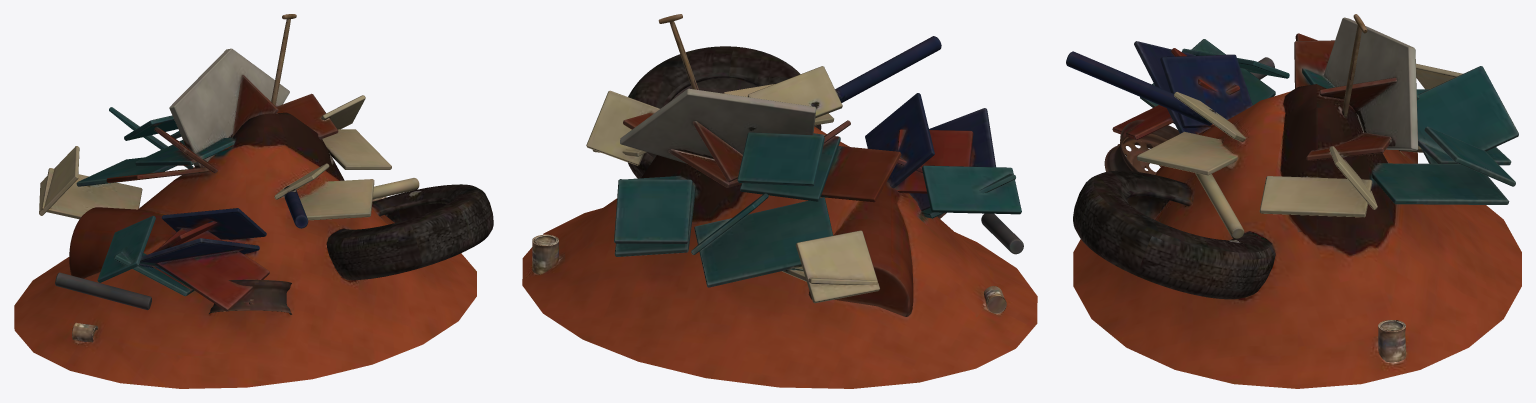
The model's file is scrap_pile.glb.
3 views of the same model, side by side, from view 1: azimuth 30°, elevation 25°; view 2: azimuth 150°, elevation 25°; view 3: azimuth 270°, elevation 25° (orthographic). The views are drawn at different scales.
Parts seen in each view (by area): view 1: scrap_pile; view 2: scrap_pile; view 3: scrap_pile.
Part boxes in pixels (x1,y1,x2,y2): scrap_pile: (14,14,493,388); scrap_pile: (522,14,1037,388); scrap_pile: (1066,14,1521,388).
Bounding box in the file's own units: 3 × 1.7 × 2.41.
1 material, 1 textured.
